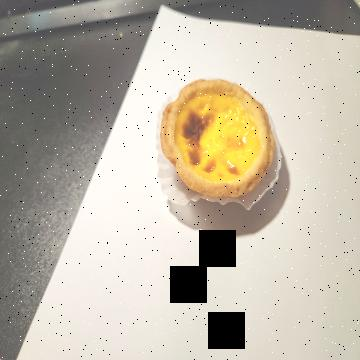EggTart: (159, 77, 274, 200)
